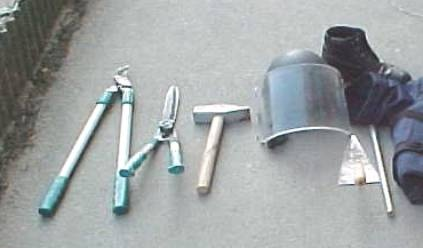hammer: (191, 102, 251, 192)
